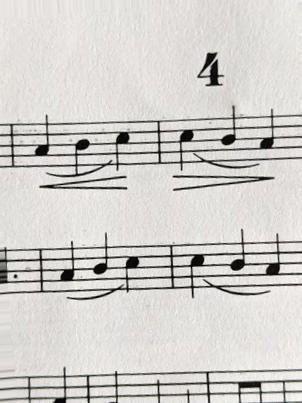note: (181, 238, 210, 300), (27, 111, 55, 172), (172, 113, 200, 174), (225, 227, 251, 291), (260, 229, 285, 292), (106, 118, 133, 175), (88, 230, 113, 290), (55, 238, 80, 297), (69, 115, 92, 178), (253, 107, 277, 164), (221, 99, 242, 162), (119, 241, 143, 295)
